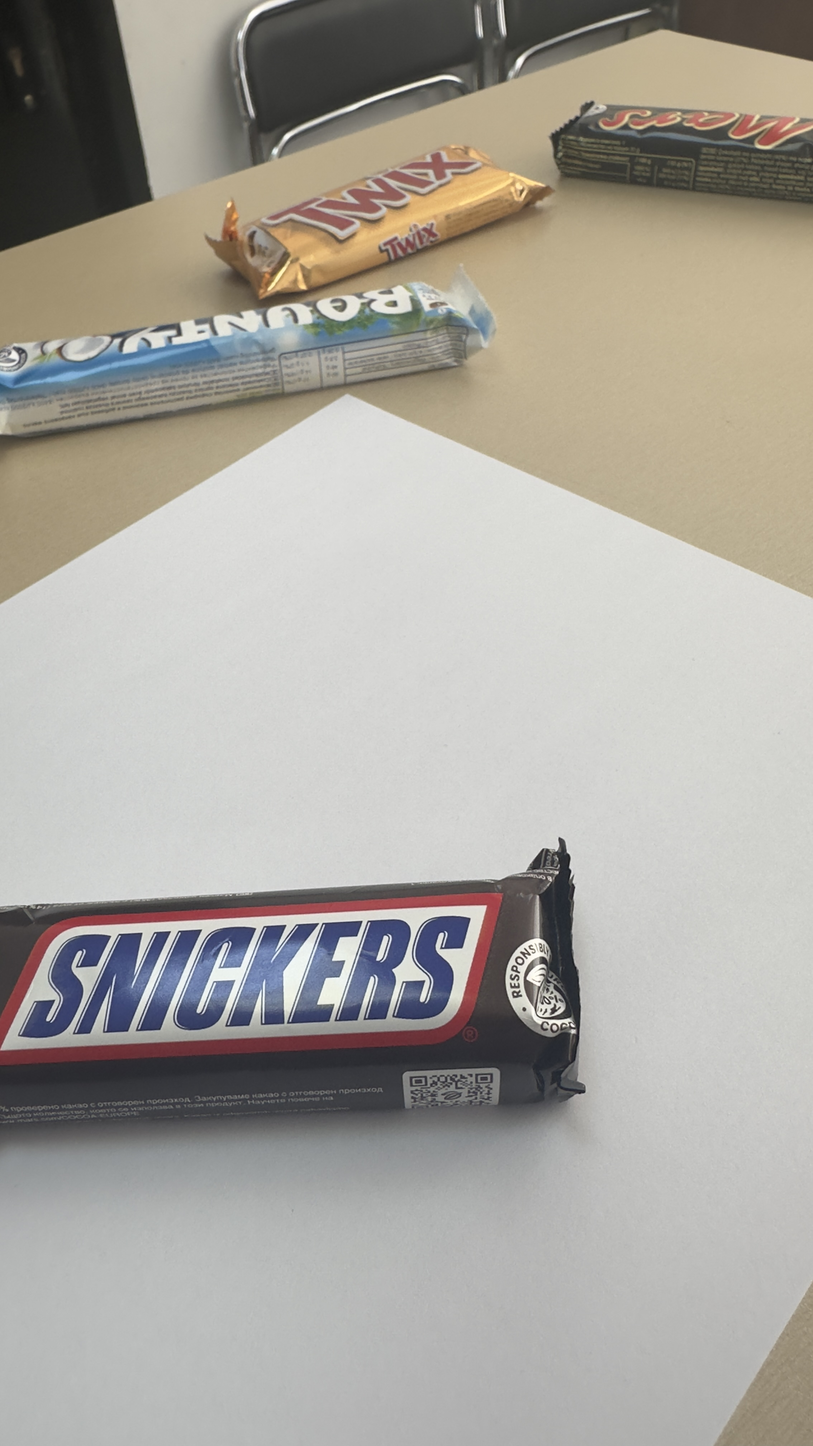SNICKERS: (569, 865, 801, 1436)
